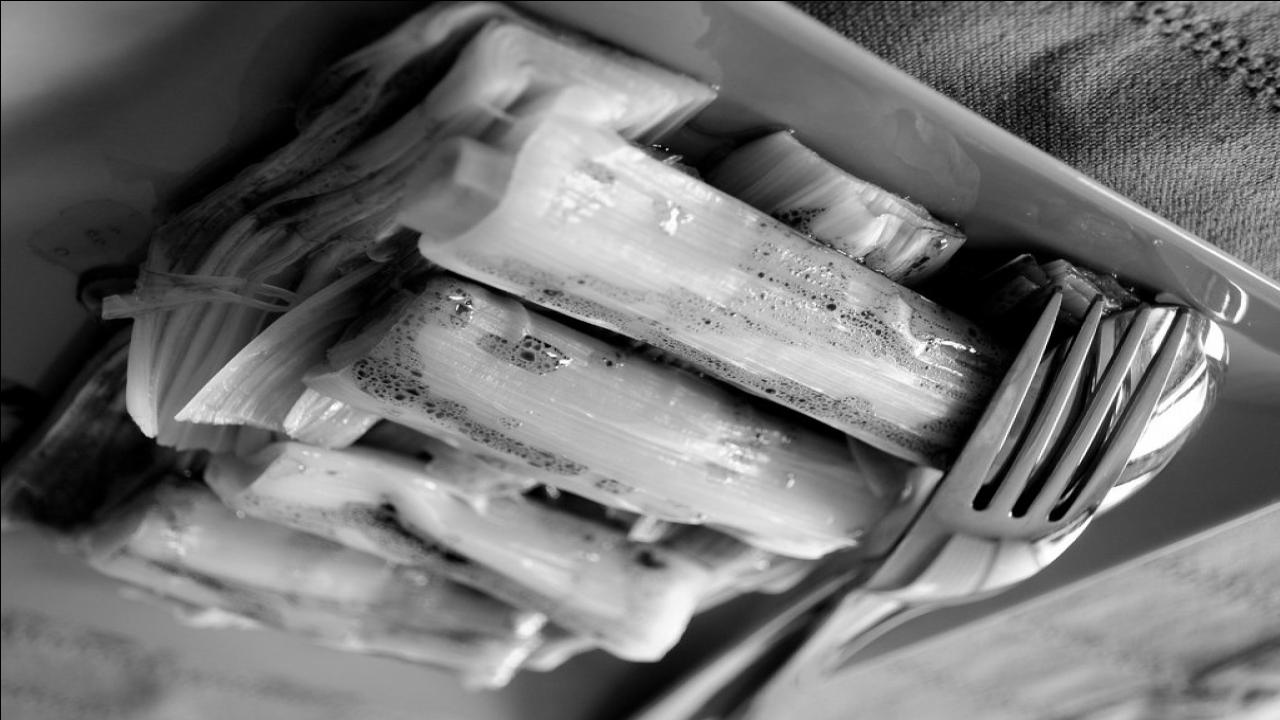fork: (711, 285, 1195, 720)
